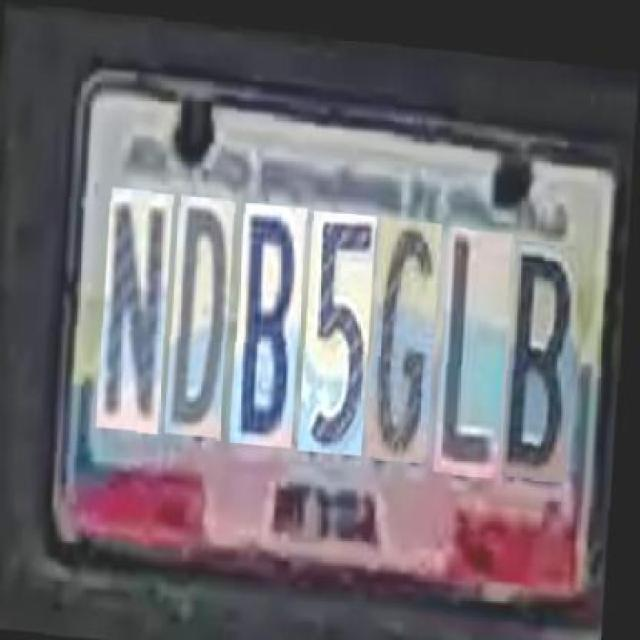5: (302, 198, 376, 440)
b: (505, 219, 581, 459), (234, 193, 308, 438)
d: (169, 188, 236, 430)
g: (371, 202, 442, 447)
l: (438, 210, 512, 458)
n: (100, 183, 174, 428)
